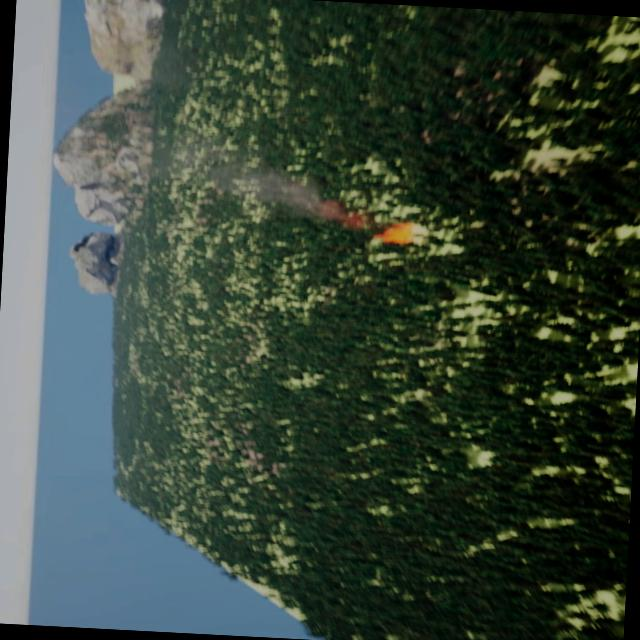fire: (369, 218, 418, 245)
smoke: (204, 163, 373, 232)
